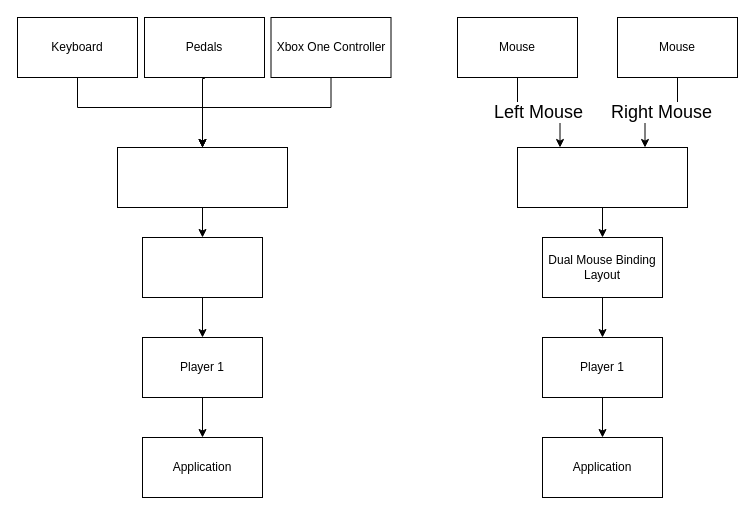
The diagram is 755 pixels wide and 515 high, and some of its shapes have lost their labels. The shapes that lost their labels are listed below. From the top down, each one's centre as x and y in pixels, then its label:
the point at 202,177: My Custom Interaction Profile
the point at 602,177: My Dual Mouse Profile
the point at 202,267: Custom Profile Binding Layout
